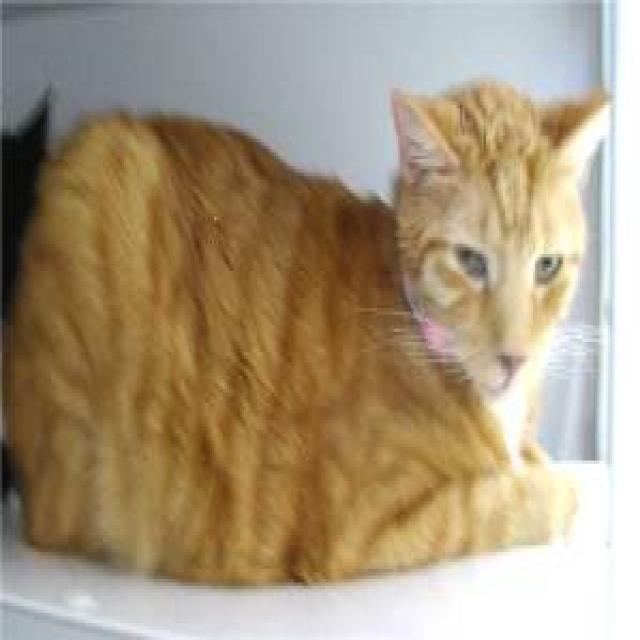cat: (0, 74, 610, 586)
